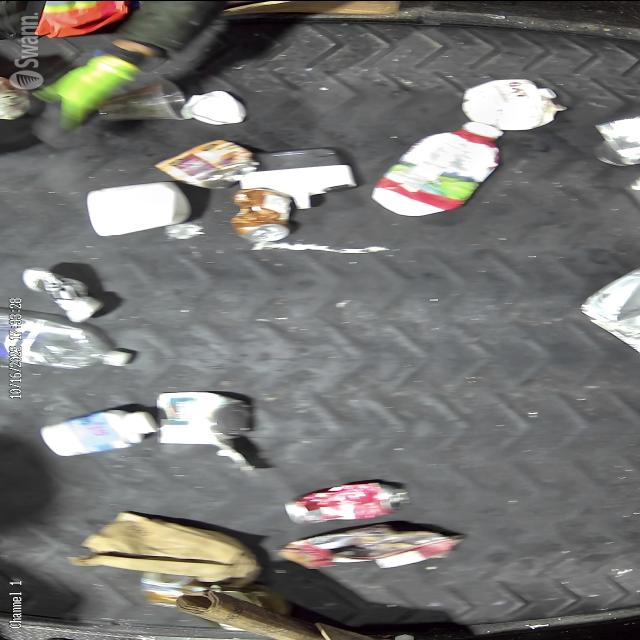can: (153, 394, 271, 468), (280, 468, 408, 524), (160, 131, 268, 190), (216, 182, 306, 246)
milk_jug: (364, 121, 508, 215)
plastic_bottle: (0, 315, 139, 368)
